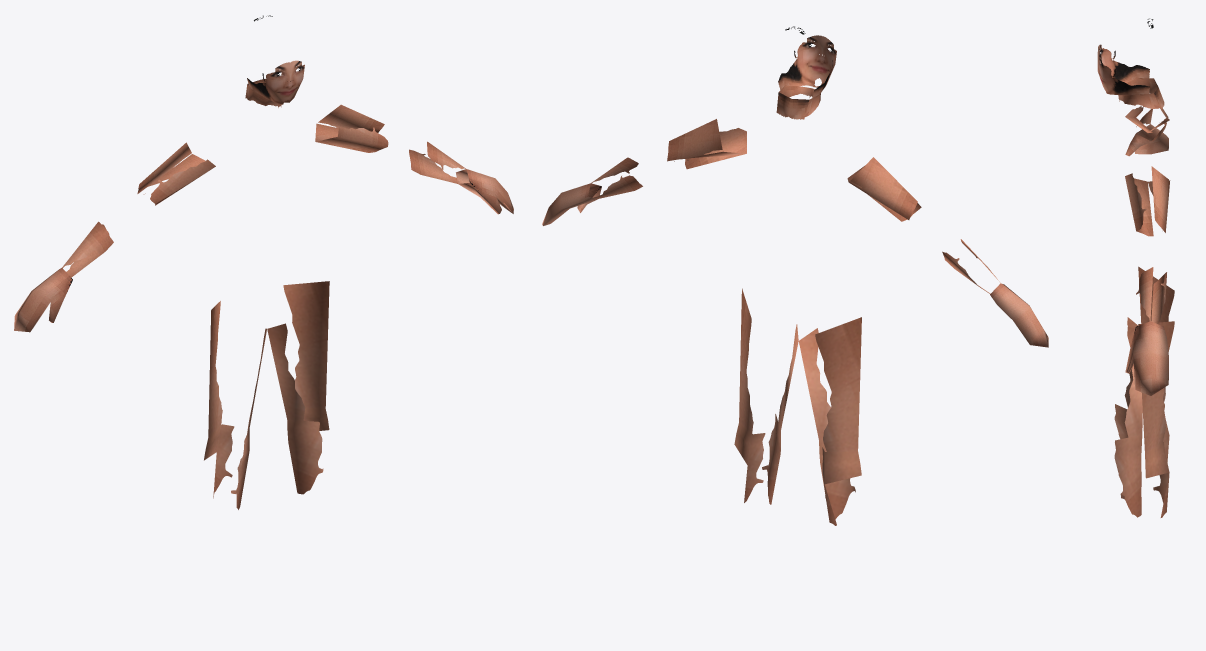
The model's file is Merbemio.fbx.
3 renders of one model, left to right at view 1: azimuth 30°, elevation 25°; view 2: azimuth 150°, elevation 25°; view 3: azimuth 270°, elevation 25°, orthographic.
Visible parts, largest first — view 1: HumanoidBase_Overlapping_002; view 2: HumanoidBase_Overlapping_002; view 3: HumanoidBase_Overlapping_002.
Part boxes in pixels (left/top/right/bottom): HumanoidBase_Overlapping_002: left=14, top=15, right=513, bottom=509; HumanoidBase_Overlapping_002: left=542, top=26, right=1048, bottom=525; HumanoidBase_Overlapping_002: left=1097, top=18, right=1174, bottom=517.
Bounding box in the file's own units: 161 × 180 × 31.93.
Materials: 1 (1 with a texture image).
